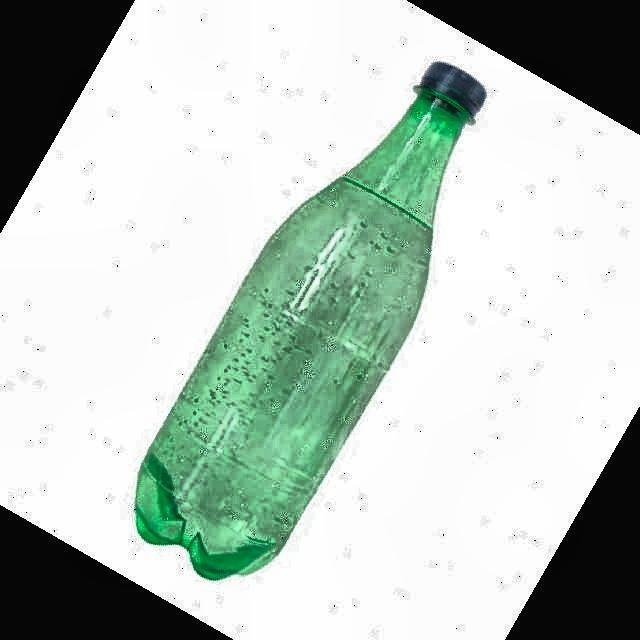plastic: (135, 62, 485, 579)
